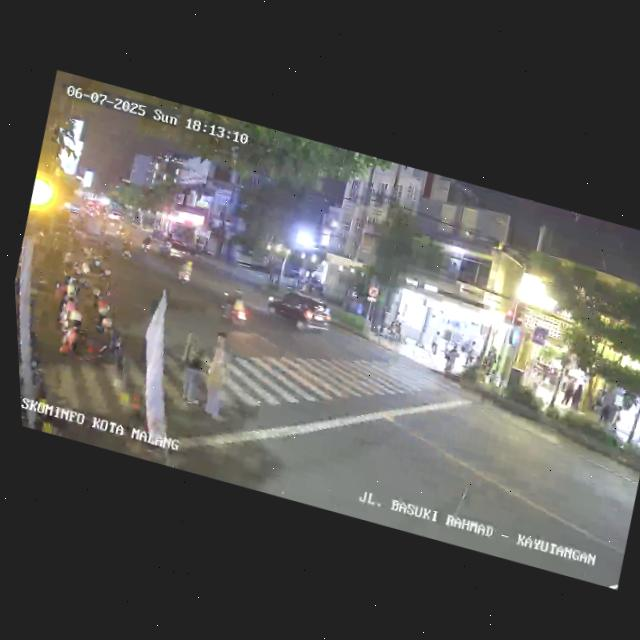car: (259, 283, 337, 340), (157, 238, 191, 265)
motorcycle: (215, 285, 255, 332), (173, 254, 198, 289), (117, 236, 138, 265), (137, 230, 156, 255)
person: (169, 329, 217, 408), (196, 346, 232, 418), (209, 330, 235, 363), (438, 341, 460, 378), (567, 378, 587, 413), (558, 374, 576, 409), (595, 397, 613, 428), (526, 366, 543, 398), (460, 340, 478, 370), (427, 331, 442, 356), (636, 415, 640, 446)
